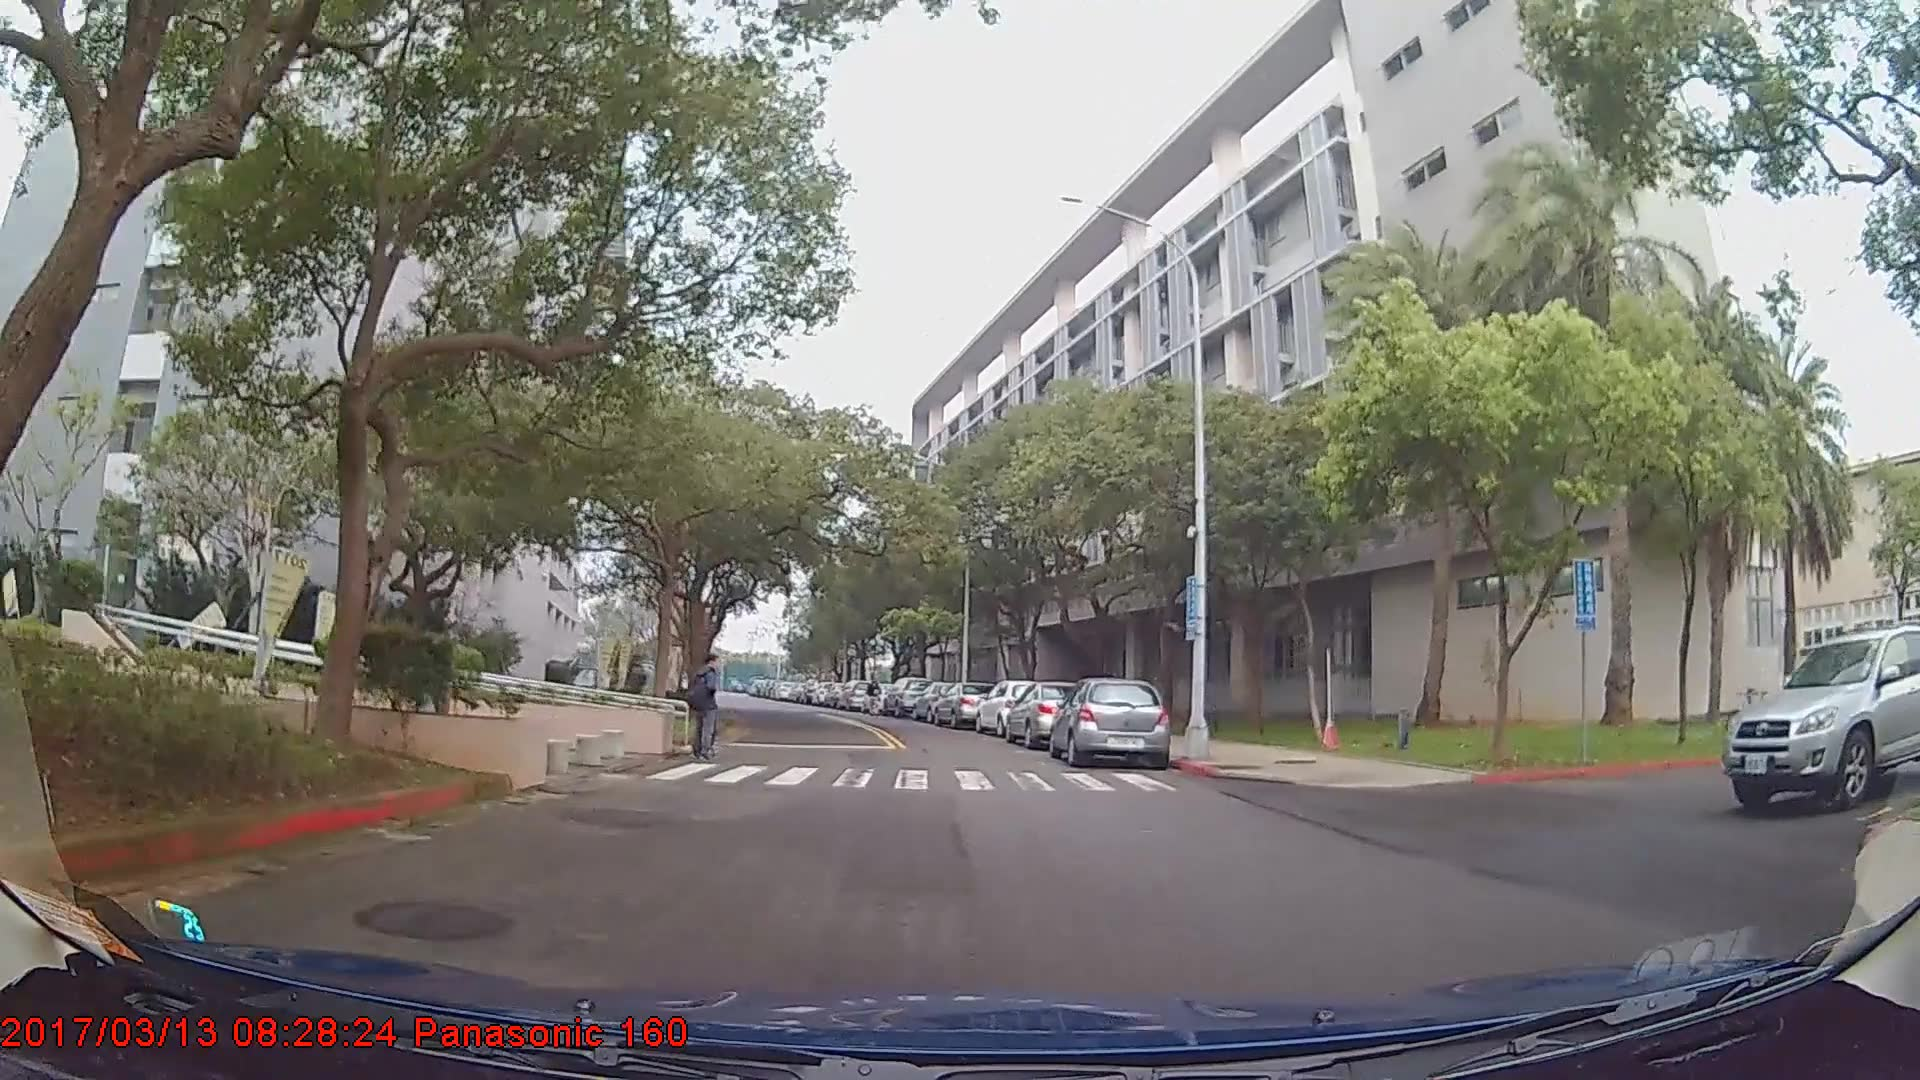pedestrian: (690, 658, 731, 772), (865, 674, 885, 717)
vehicle: (1720, 626, 1920, 812), (1047, 676, 1168, 767), (1003, 681, 1097, 746), (974, 679, 1055, 737), (932, 680, 997, 729), (881, 674, 934, 717)
